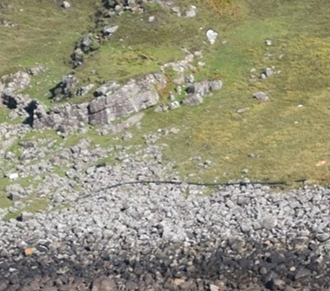tube: (150, 169, 307, 190), (75, 167, 138, 199)
